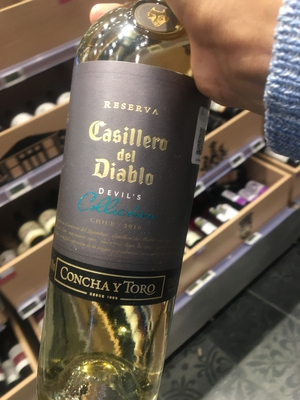casillero del diablo devils collection verde: (29, 11, 220, 388)
